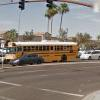Bus: (5, 35, 84, 66)
